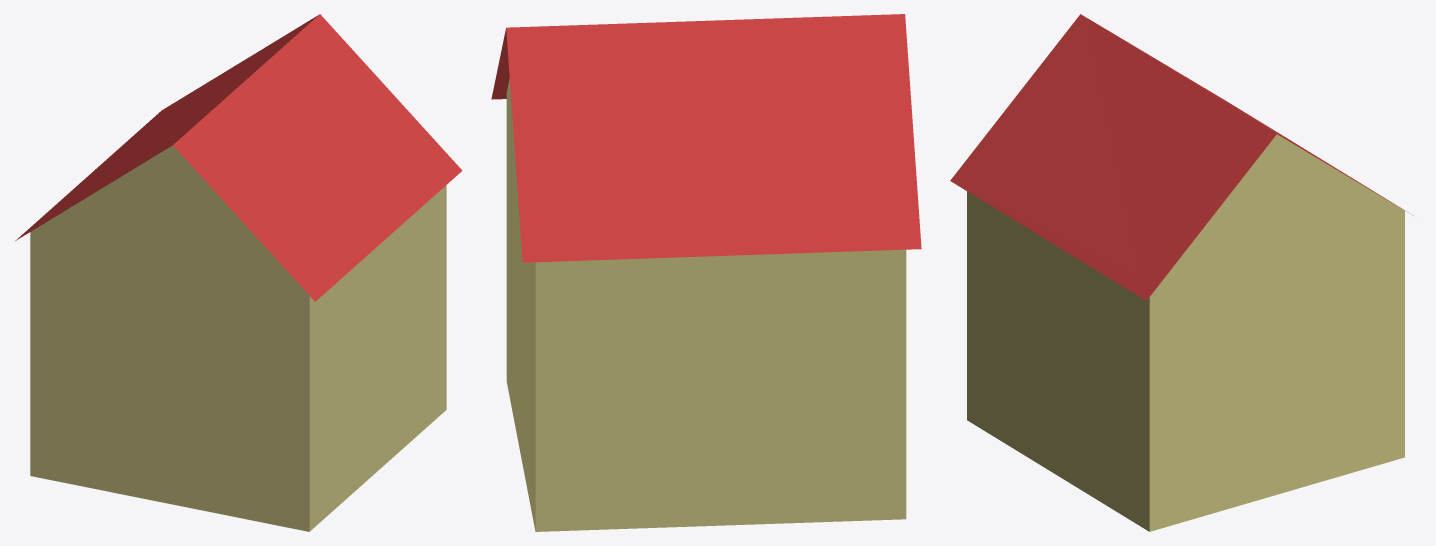
3 views of the same model, side by side, from view 1: azimuth 30°, elevation 25°; view 2: azimuth 150°, elevation 25°; view 3: azimuth 270°, elevation 25° (orthographic). The views are drawn at different scales.
Size of the model in its own units: 19.58 by 19.46 by 16.69.
